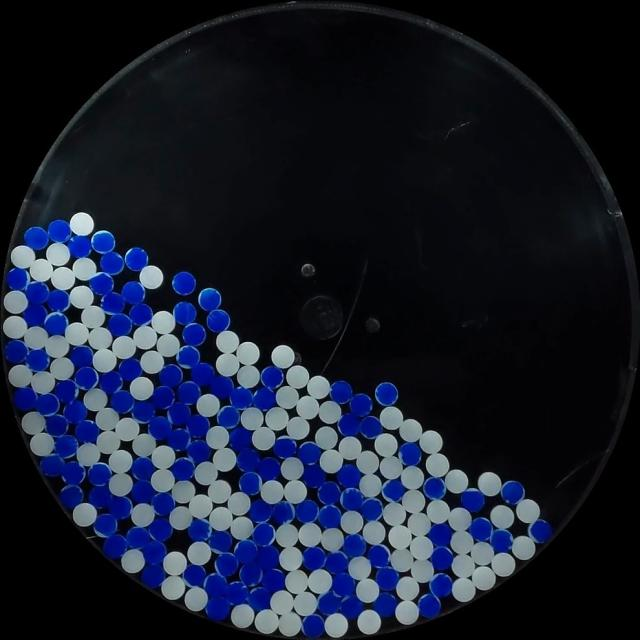pmmma-blanca: (313, 425, 339, 452), (470, 565, 496, 591), (514, 498, 540, 524), (295, 394, 321, 420), (282, 479, 309, 504), (299, 522, 323, 550), (394, 576, 420, 601), (388, 524, 413, 550), (510, 535, 536, 560), (408, 534, 433, 560), (2, 315, 28, 340), (226, 491, 252, 516), (161, 575, 186, 601), (269, 590, 294, 616), (488, 504, 514, 529), (241, 406, 266, 432), (337, 435, 362, 461), (379, 454, 404, 480), (425, 452, 450, 478), (320, 449, 344, 476), (382, 502, 409, 526), (75, 443, 103, 466), (286, 416, 314, 439), (490, 552, 515, 577), (108, 449, 133, 474), (72, 502, 97, 527), (140, 349, 165, 374), (394, 600, 419, 625), (92, 347, 117, 372), (276, 611, 301, 636), (373, 432, 398, 457), (477, 471, 502, 496), (254, 609, 279, 634), (212, 447, 237, 472), (207, 479, 232, 504), (418, 429, 443, 454), (443, 468, 468, 493), (80, 305, 106, 329), (468, 541, 494, 565), (114, 417, 140, 441), (20, 411, 46, 435), (50, 266, 76, 290), (44, 334, 70, 358), (389, 549, 415, 573), (65, 322, 90, 346), (188, 494, 212, 519), (426, 498, 450, 523), (184, 586, 208, 611), (156, 333, 181, 357), (150, 468, 175, 492), (216, 352, 240, 377), (29, 432, 54, 456), (132, 325, 157, 349), (324, 612, 348, 637), (112, 335, 137, 359), (162, 551, 187, 575), (306, 375, 331, 399), (356, 610, 381, 634), (3, 290, 28, 314), (83, 388, 108, 412), (451, 577, 476, 601), (230, 603, 254, 628), (193, 460, 218, 484), (320, 528, 345, 552), (319, 401, 343, 426), (10, 245, 36, 268), (278, 547, 304, 570), (308, 571, 334, 594), (408, 513, 434, 536), (401, 489, 425, 513), (46, 242, 70, 266), (260, 480, 284, 504), (151, 445, 175, 469), (50, 356, 74, 380), (30, 258, 54, 282), (24, 326, 48, 350), (236, 342, 260, 366), (271, 344, 295, 368), (451, 554, 475, 578), (293, 590, 317, 614), (130, 376, 154, 400), (280, 457, 304, 481), (151, 310, 175, 334), (70, 285, 94, 309), (380, 406, 404, 430), (140, 265, 164, 289), (88, 326, 112, 350), (130, 503, 154, 527), (356, 450, 380, 474), (8, 365, 33, 388), (96, 431, 121, 454), (401, 418, 424, 443), (346, 556, 371, 579), (94, 408, 120, 430), (448, 509, 474, 531), (252, 426, 275, 450), (109, 472, 132, 496), (340, 510, 363, 534), (196, 393, 220, 416), (356, 578, 379, 602), (171, 481, 195, 504), (120, 550, 144, 573), (72, 257, 96, 280), (70, 212, 94, 235), (31, 371, 55, 394), (168, 506, 192, 529), (210, 507, 233, 531), (274, 387, 299, 409), (206, 426, 229, 449), (229, 518, 252, 541), (279, 523, 302, 546), (401, 466, 424, 489), (132, 433, 154, 457), (284, 568, 306, 592), (265, 407, 287, 431), (358, 474, 382, 496), (410, 560, 434, 582), (451, 530, 475, 552), (216, 331, 239, 353), (286, 366, 309, 388), (187, 541, 210, 563), (237, 366, 260, 388), (363, 522, 386, 544)
